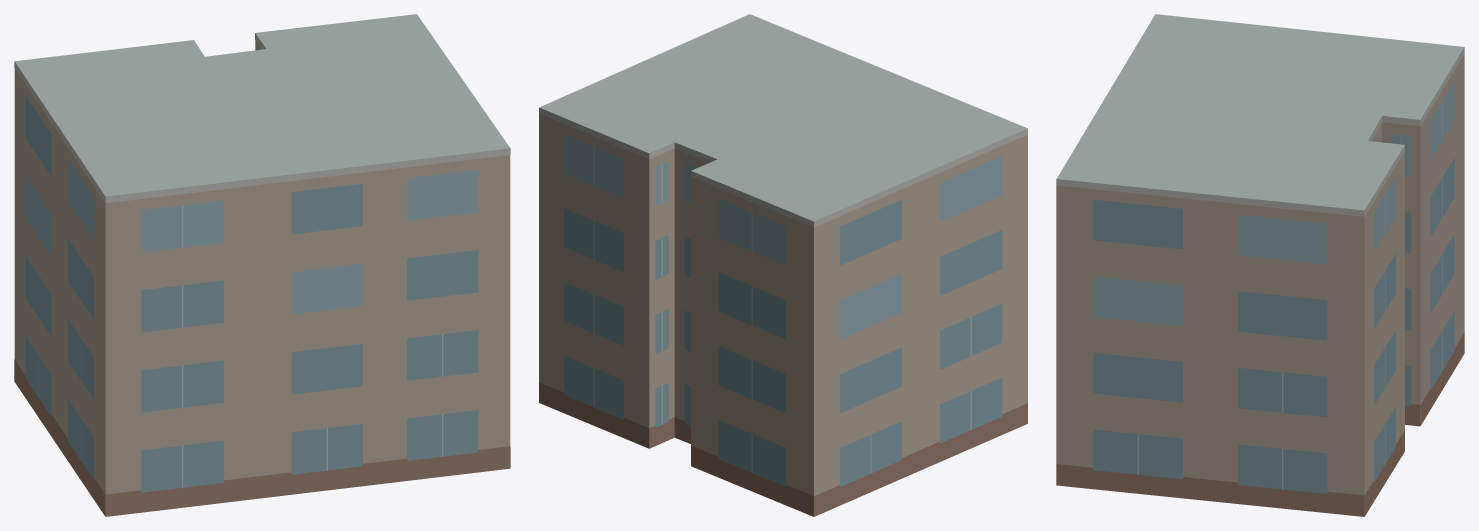
The model's file is survey-upis-32919008.glb.
3 renders of one model, left to right at view 1: azimuth 30°, elevation 25°; view 2: azimuth 150°, elevation 25°; view 3: azimuth 270°, elevation 25°, orthographic. The views are drawn at different scales.
Visible parts, largest first — view 1: survey-upis-32919008.tmp; view 2: survey-upis-32919008.tmp; view 3: survey-upis-32919008.tmp.
Part boxes in pixels (x1,y1,x2,y2): survey-upis-32919008.tmp: [14, 14, 510, 516]; survey-upis-32919008.tmp: [539, 14, 1027, 516]; survey-upis-32919008.tmp: [1056, 14, 1464, 516].
Bounding box in the file's own units: 16.19 × 11.77 × 14.21.
